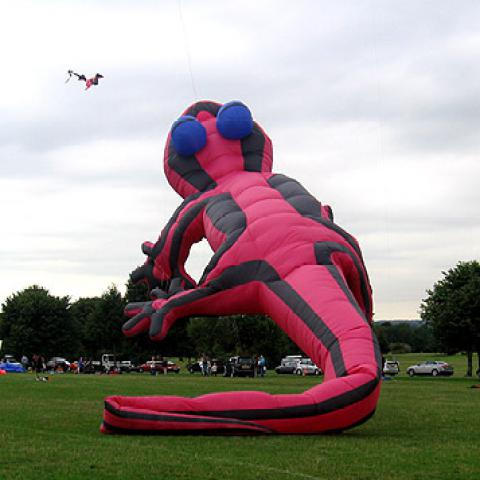car: (407, 360, 454, 378), (140, 360, 181, 375), (296, 358, 322, 376), (45, 358, 70, 374), (234, 357, 253, 377), (275, 361, 296, 375), (383, 358, 400, 374), (120, 360, 141, 372), (0, 358, 22, 366), (188, 362, 201, 374)
truck: (83, 353, 118, 374)
